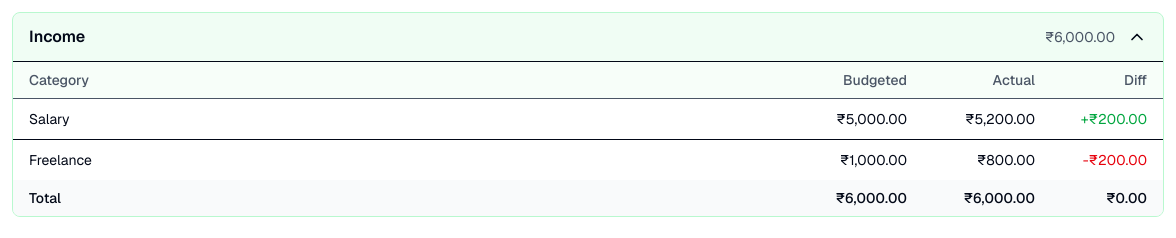
Test case: BudgetTable › allows editing values via click
The width and height of the screenshot is (1176, 238).
Click on a budgeted amount to edit (first one in desktop view)
Click the text "₹5,000.00" at (872, 119), box [836, 110, 907, 128]
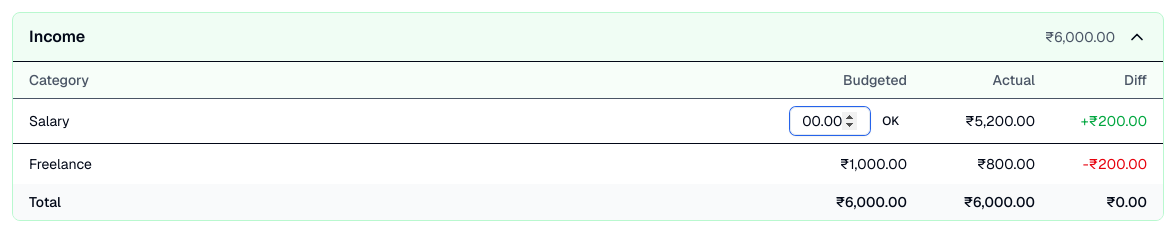
Check: the number field is shown, box [790, 107, 870, 135]
